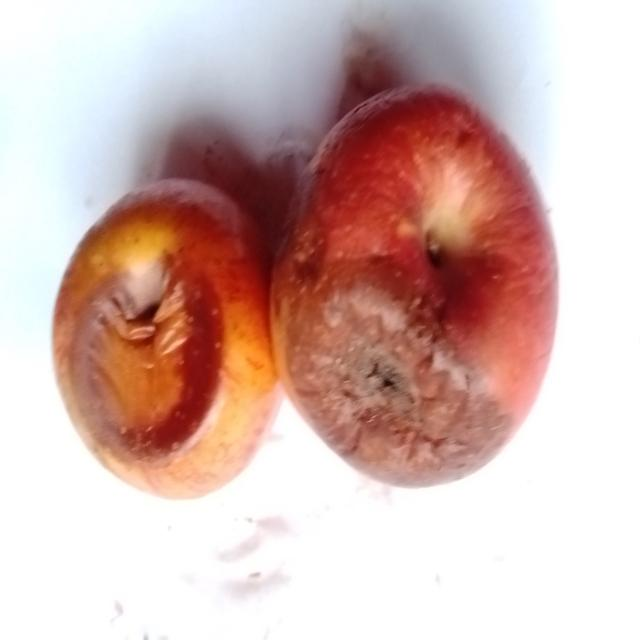apple: (272, 88, 557, 485), (54, 180, 278, 498)
